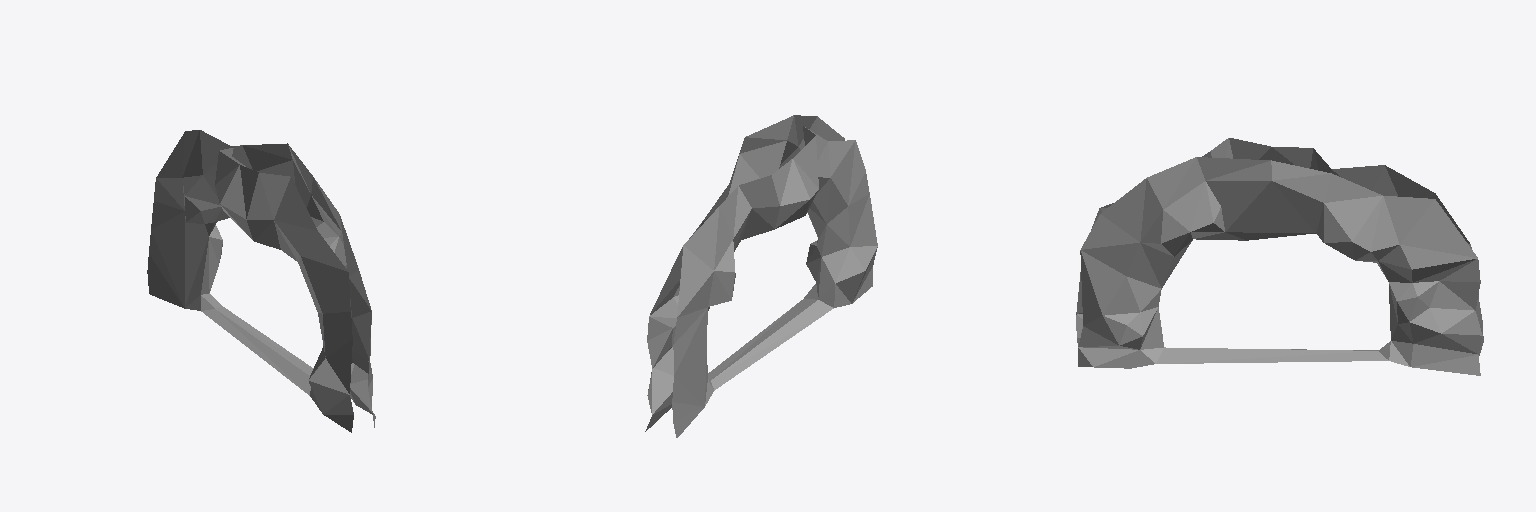
Rendered from Mesh_CavePack_RoomSeparator_lod1.obj.
3 views of the same model, side by side, from view 1: azimuth 30°, elevation 25°; view 2: azimuth 150°, elevation 25°; view 3: azimuth 270°, elevation 25° (orthographic).
Parts seen in each view (by area): view 1: RoomSeparator_Plane.000; view 2: RoomSeparator_Plane.000; view 3: RoomSeparator_Plane.000.
Part boxes in pixels (x1,y1,x2,y2): RoomSeparator_Plane.000: (147,130,375,432); RoomSeparator_Plane.000: (645,115,877,437); RoomSeparator_Plane.000: (1076,138,1483,375).
Bounding box in the file's own units: 3.31 × 8.77 × 14.86.